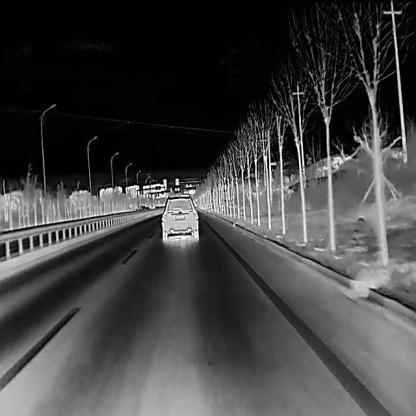car: (160, 193, 199, 243)
